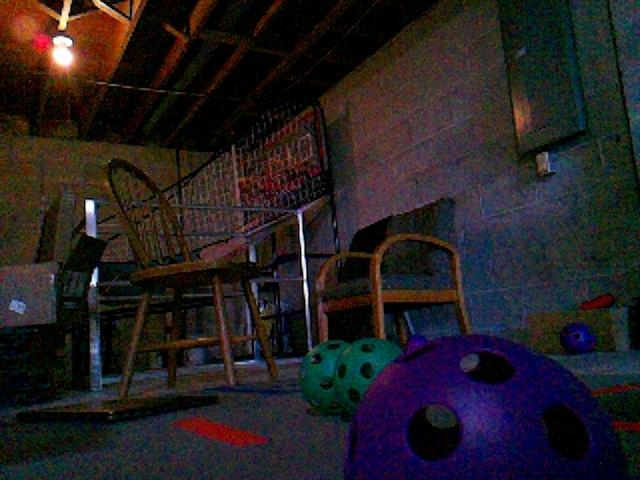Green: (337, 340, 402, 412), (297, 340, 352, 411)
Purple: (344, 334, 616, 477), (558, 320, 597, 354), (403, 333, 428, 354)
